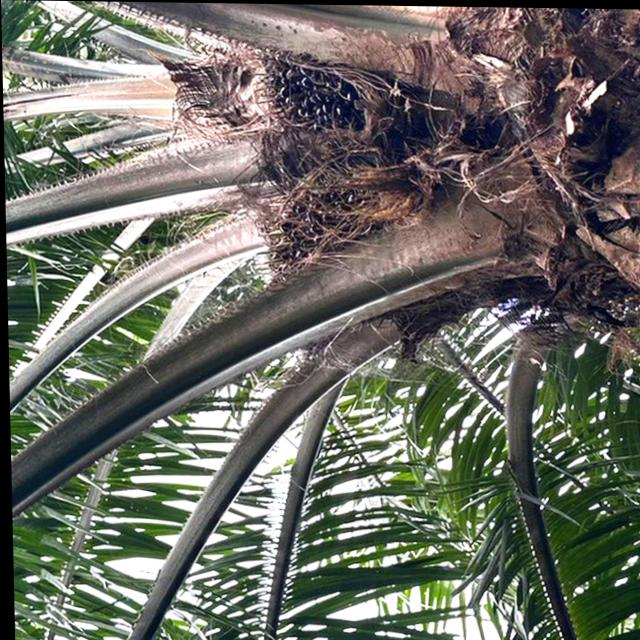ripe: (242, 169, 416, 296)
